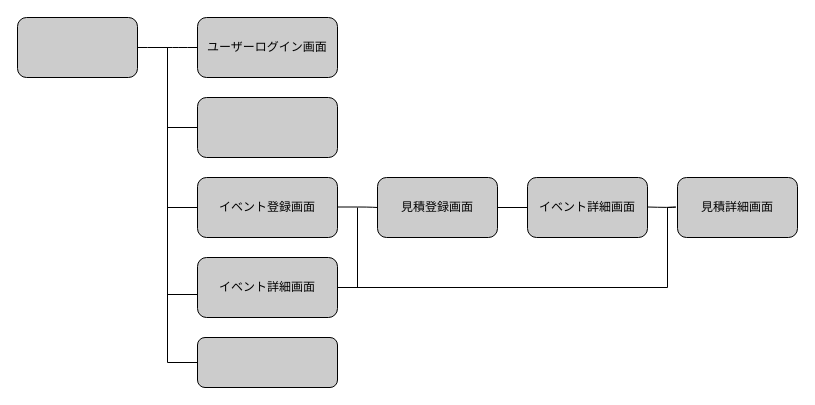
This 815x405 diagram has some shape labels left out. Each missing label, with the box of its shape:
イベント一覧画面: (16, 16, 138, 78)
イベント編集画面: (196, 336, 338, 388)
ユーザー新規登録画面: (196, 96, 338, 158)
